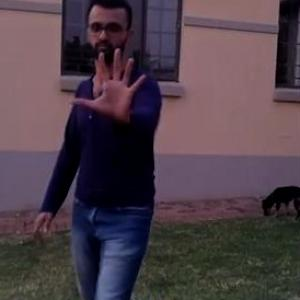follow_hand: (69, 44, 151, 121)
